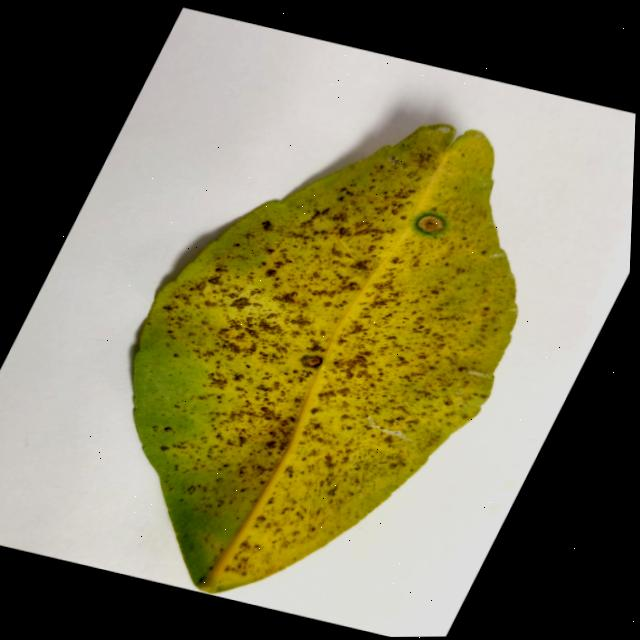melanose: (134, 124, 517, 592)
